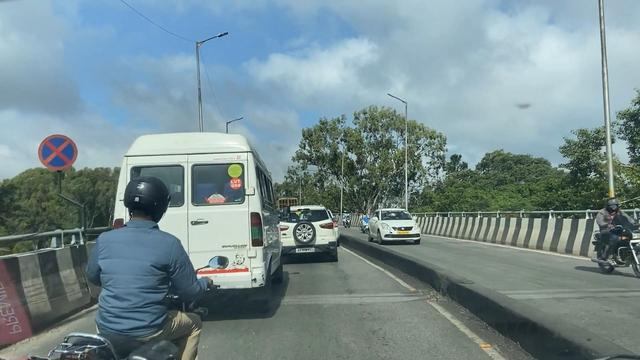LMV: (283, 210, 337, 253)
SpeedBump: (294, 287, 413, 305)
